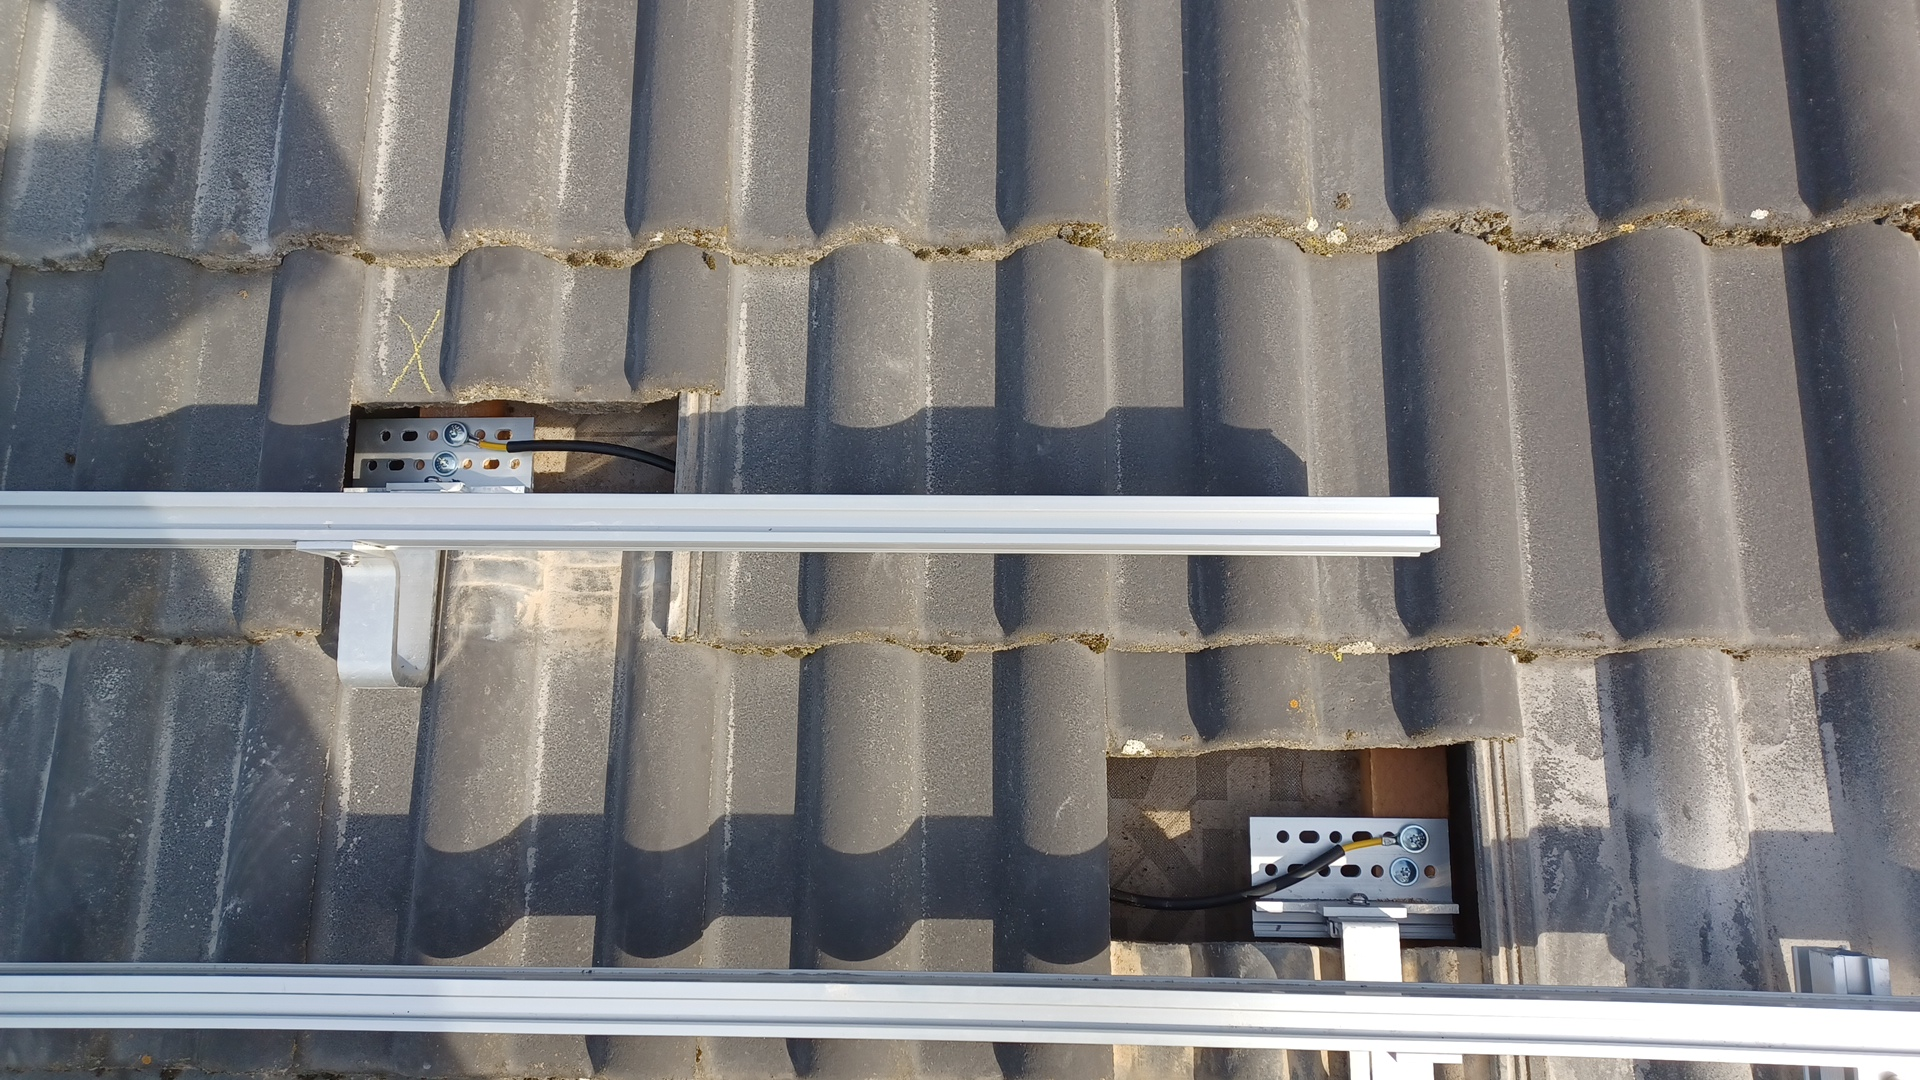hook: (295, 541, 440, 690), (1345, 927, 1462, 1080)
